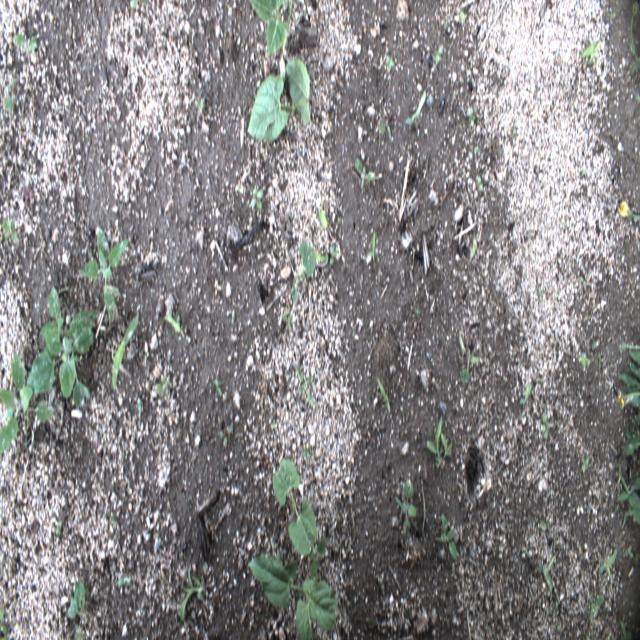crop: (247, 458, 339, 640), (246, 0, 312, 145), (292, 239, 316, 306), (617, 464, 639, 529)
weed: (26, 290, 100, 411), (0, 355, 58, 459), (77, 228, 129, 332), (617, 342, 639, 457), (110, 314, 138, 391), (394, 476, 420, 538), (426, 413, 453, 470), (179, 566, 205, 623), (458, 332, 480, 389), (67, 580, 88, 638), (435, 512, 459, 562), (625, 0, 640, 80), (537, 550, 556, 596), (405, 88, 428, 125), (296, 364, 314, 409), (579, 34, 602, 68), (354, 156, 376, 190), (616, 199, 640, 228), (164, 309, 185, 338), (598, 546, 617, 578), (2, 215, 22, 245), (375, 374, 390, 412), (4, 76, 19, 112), (364, 229, 375, 270), (154, 373, 173, 396), (218, 422, 234, 448), (15, 34, 40, 50), (518, 380, 532, 408), (541, 410, 552, 444), (249, 188, 264, 212), (590, 594, 604, 619), (0, 606, 9, 639), (281, 313, 297, 331), (433, 42, 445, 66), (576, 352, 591, 371), (468, 105, 477, 128), (385, 52, 395, 72), (213, 378, 222, 400), (329, 247, 339, 266), (55, 516, 64, 536), (476, 174, 484, 192), (512, 119, 519, 139), (301, 446, 312, 458), (578, 274, 588, 287), (332, 538, 339, 555), (271, 416, 276, 432), (474, 142, 479, 157), (628, 549, 634, 559)
